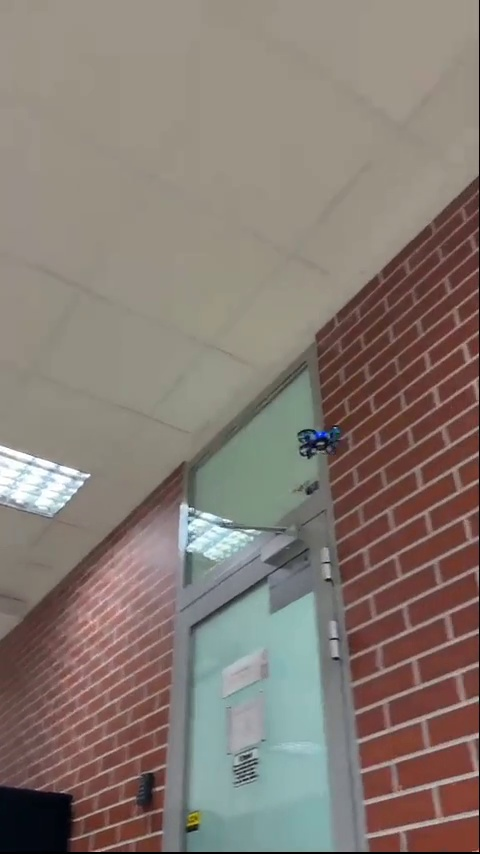drone: (294, 431, 343, 467)
